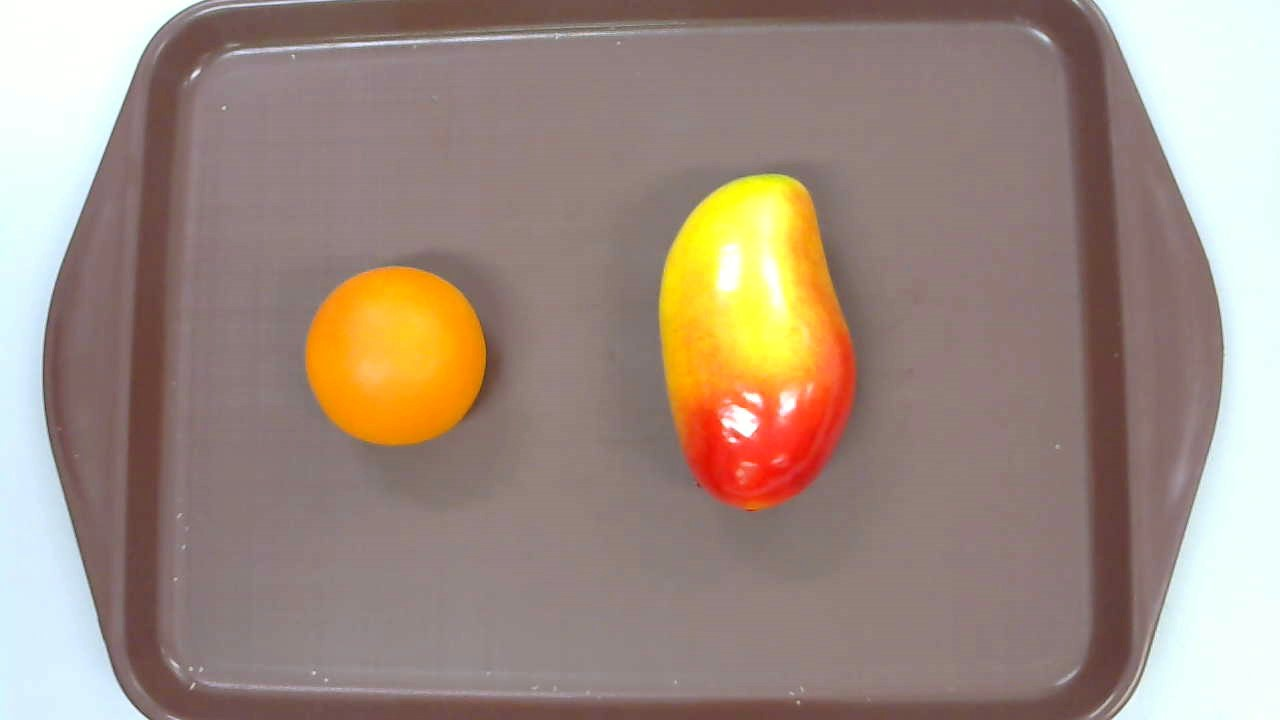bun: (305, 265, 486, 446)
red mango: (656, 172, 857, 513)
